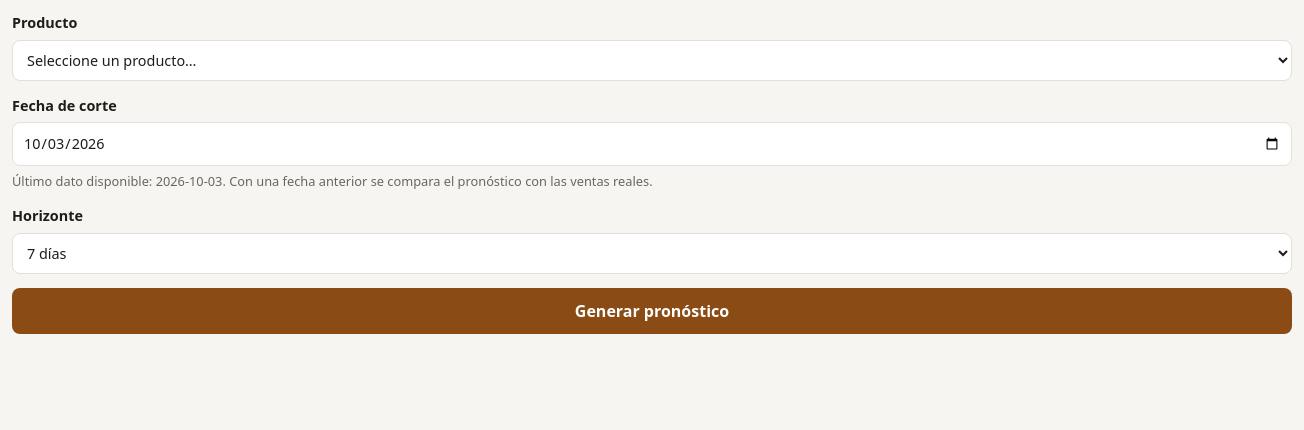
Test: ForecastForm › requires a product before submitting
Click the button "Generar pronóstico". click: (652, 311)
box: [12, 288, 1292, 334]
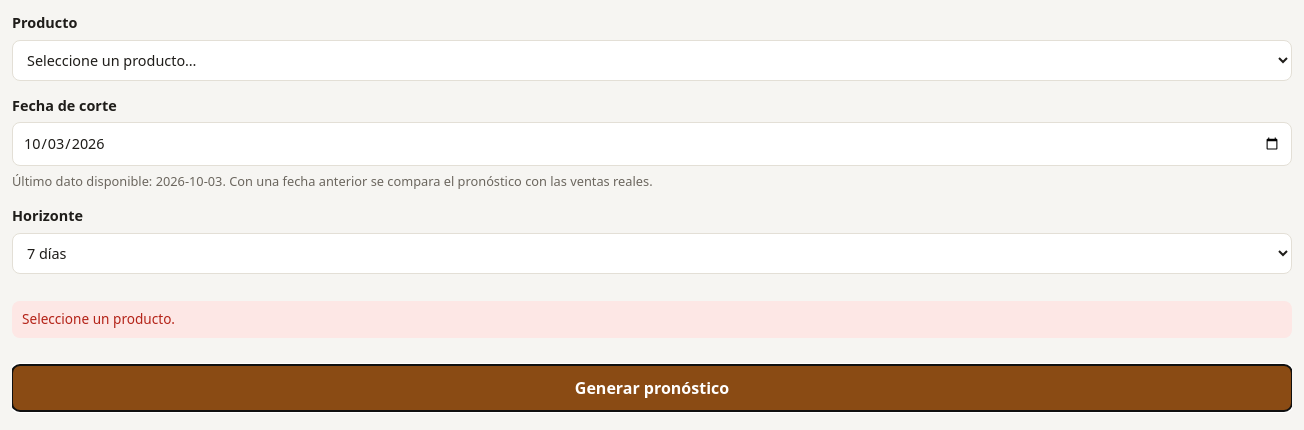
Expected: the message reads "Seleccione un producto.", [22, 309, 175, 328]
